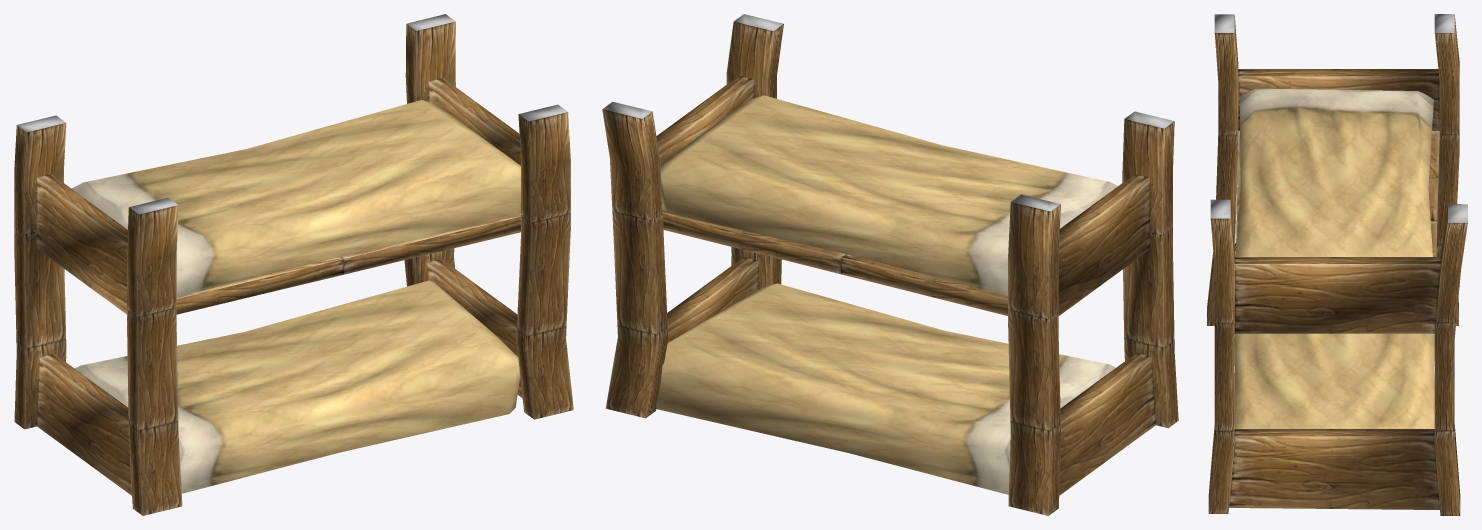
The model's file is bunkbed01.obj.
3 views of the same model, side by side, from view 1: azimuth 30°, elevation 25°; view 2: azimuth 150°, elevation 25°; view 3: azimuth 270°, elevation 25° (orthographic). The views are drawn at different scales.
Parts seen in each view (by area): view 1: Geoset1, Geoset0, Geoset2; view 2: Geoset1, Geoset0, Geoset2; view 3: Geoset0, Geoset1, Geoset2.
Boxes of the visible parts, <box> form: Geoset1: <box>71,100,520,493</box>; Geoset0: <box>14,21,573,515</box>; Geoset2: <box>17,14,567,214</box>; Geoset1: <box>656,95,1117,494</box>; Geoset0: <box>602,21,1178,515</box>; Geoset2: <box>602,14,1174,211</box>; Geoset0: <box>1207,15,1467,515</box>; Geoset1: <box>1234,88,1434,428</box>; Geoset2: <box>1210,14,1467,222</box>.
Size of the model in its own units: 5.27 by 3.45 by 2.78.
